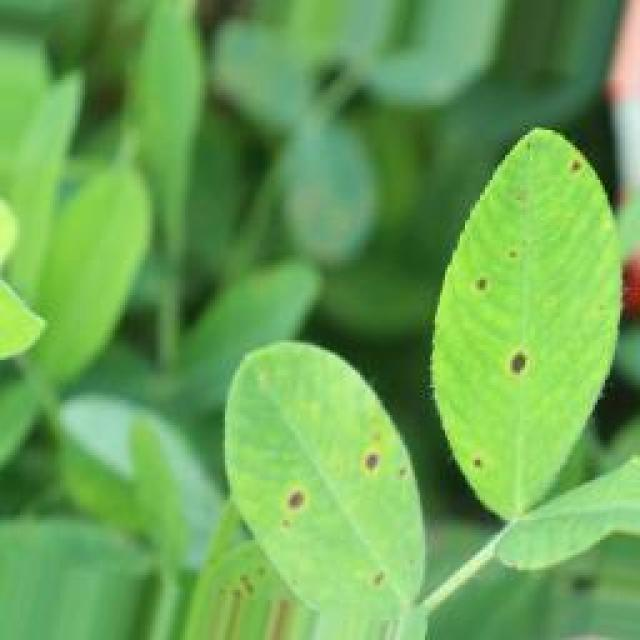Sigatoka: (482, 328, 554, 403), (344, 413, 406, 498), (455, 254, 508, 308), (268, 481, 316, 535), (349, 542, 403, 590), (563, 146, 597, 212)
